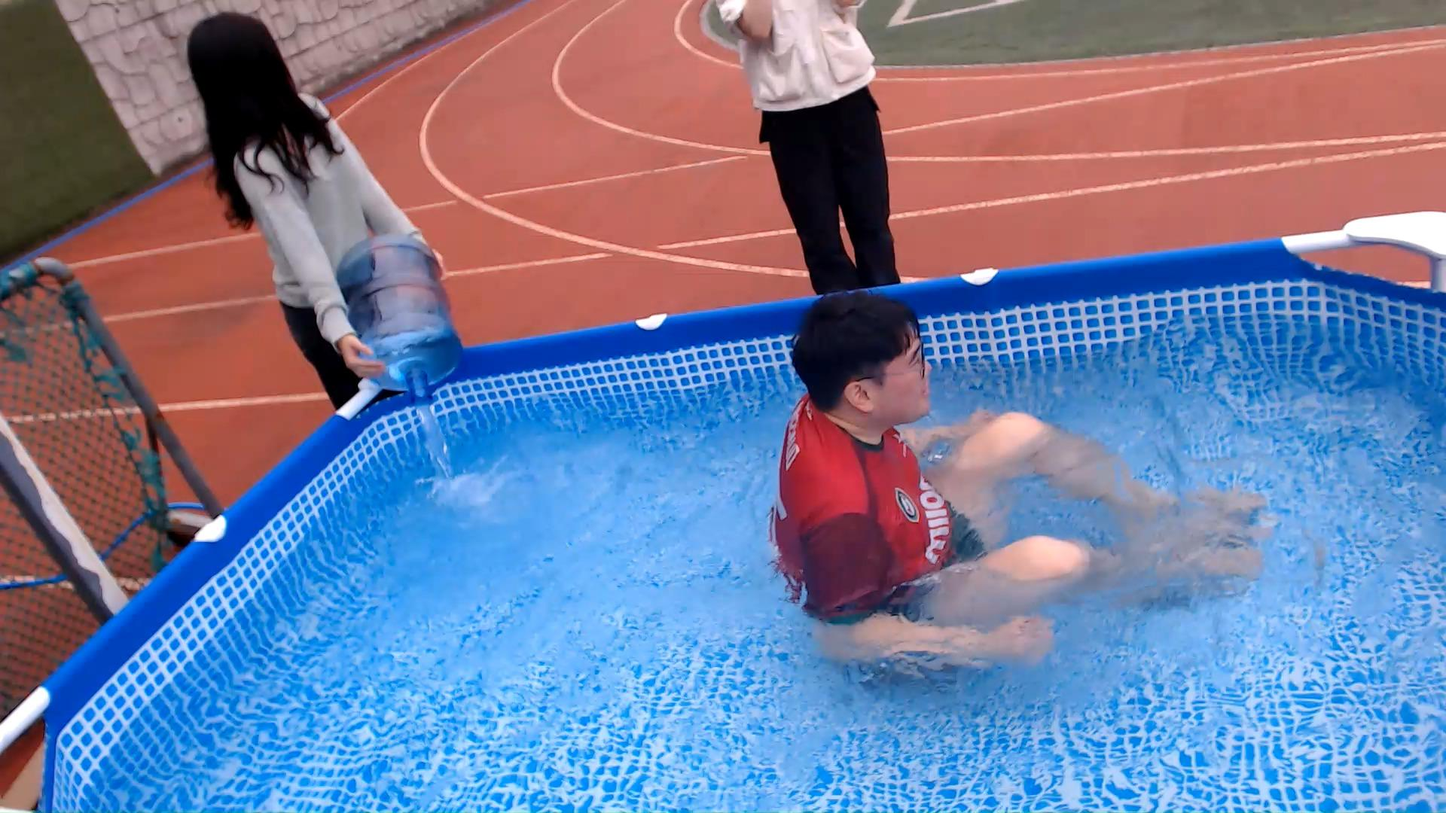Swimming: (729, 232, 1268, 685)
